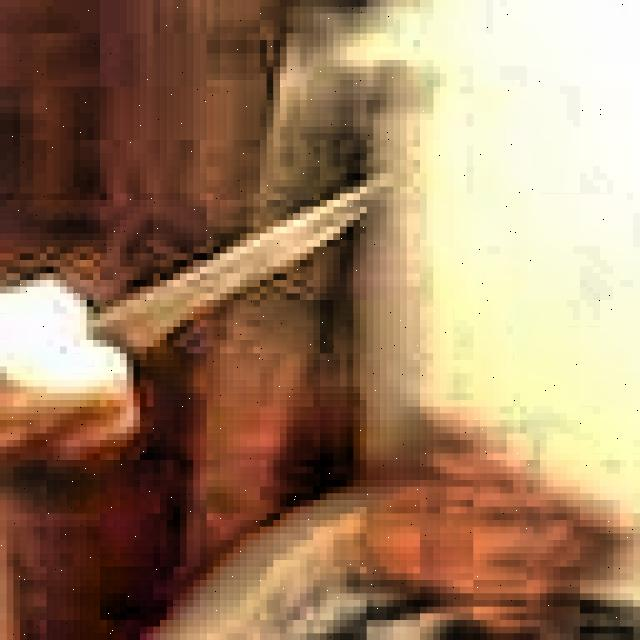knife: (88, 172, 403, 351)
